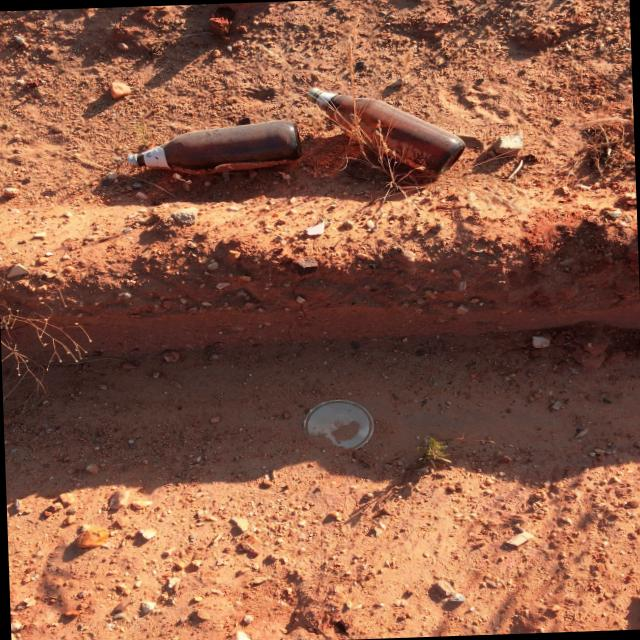less trash: (307, 87, 464, 175), (126, 120, 301, 174), (303, 399, 374, 449)
